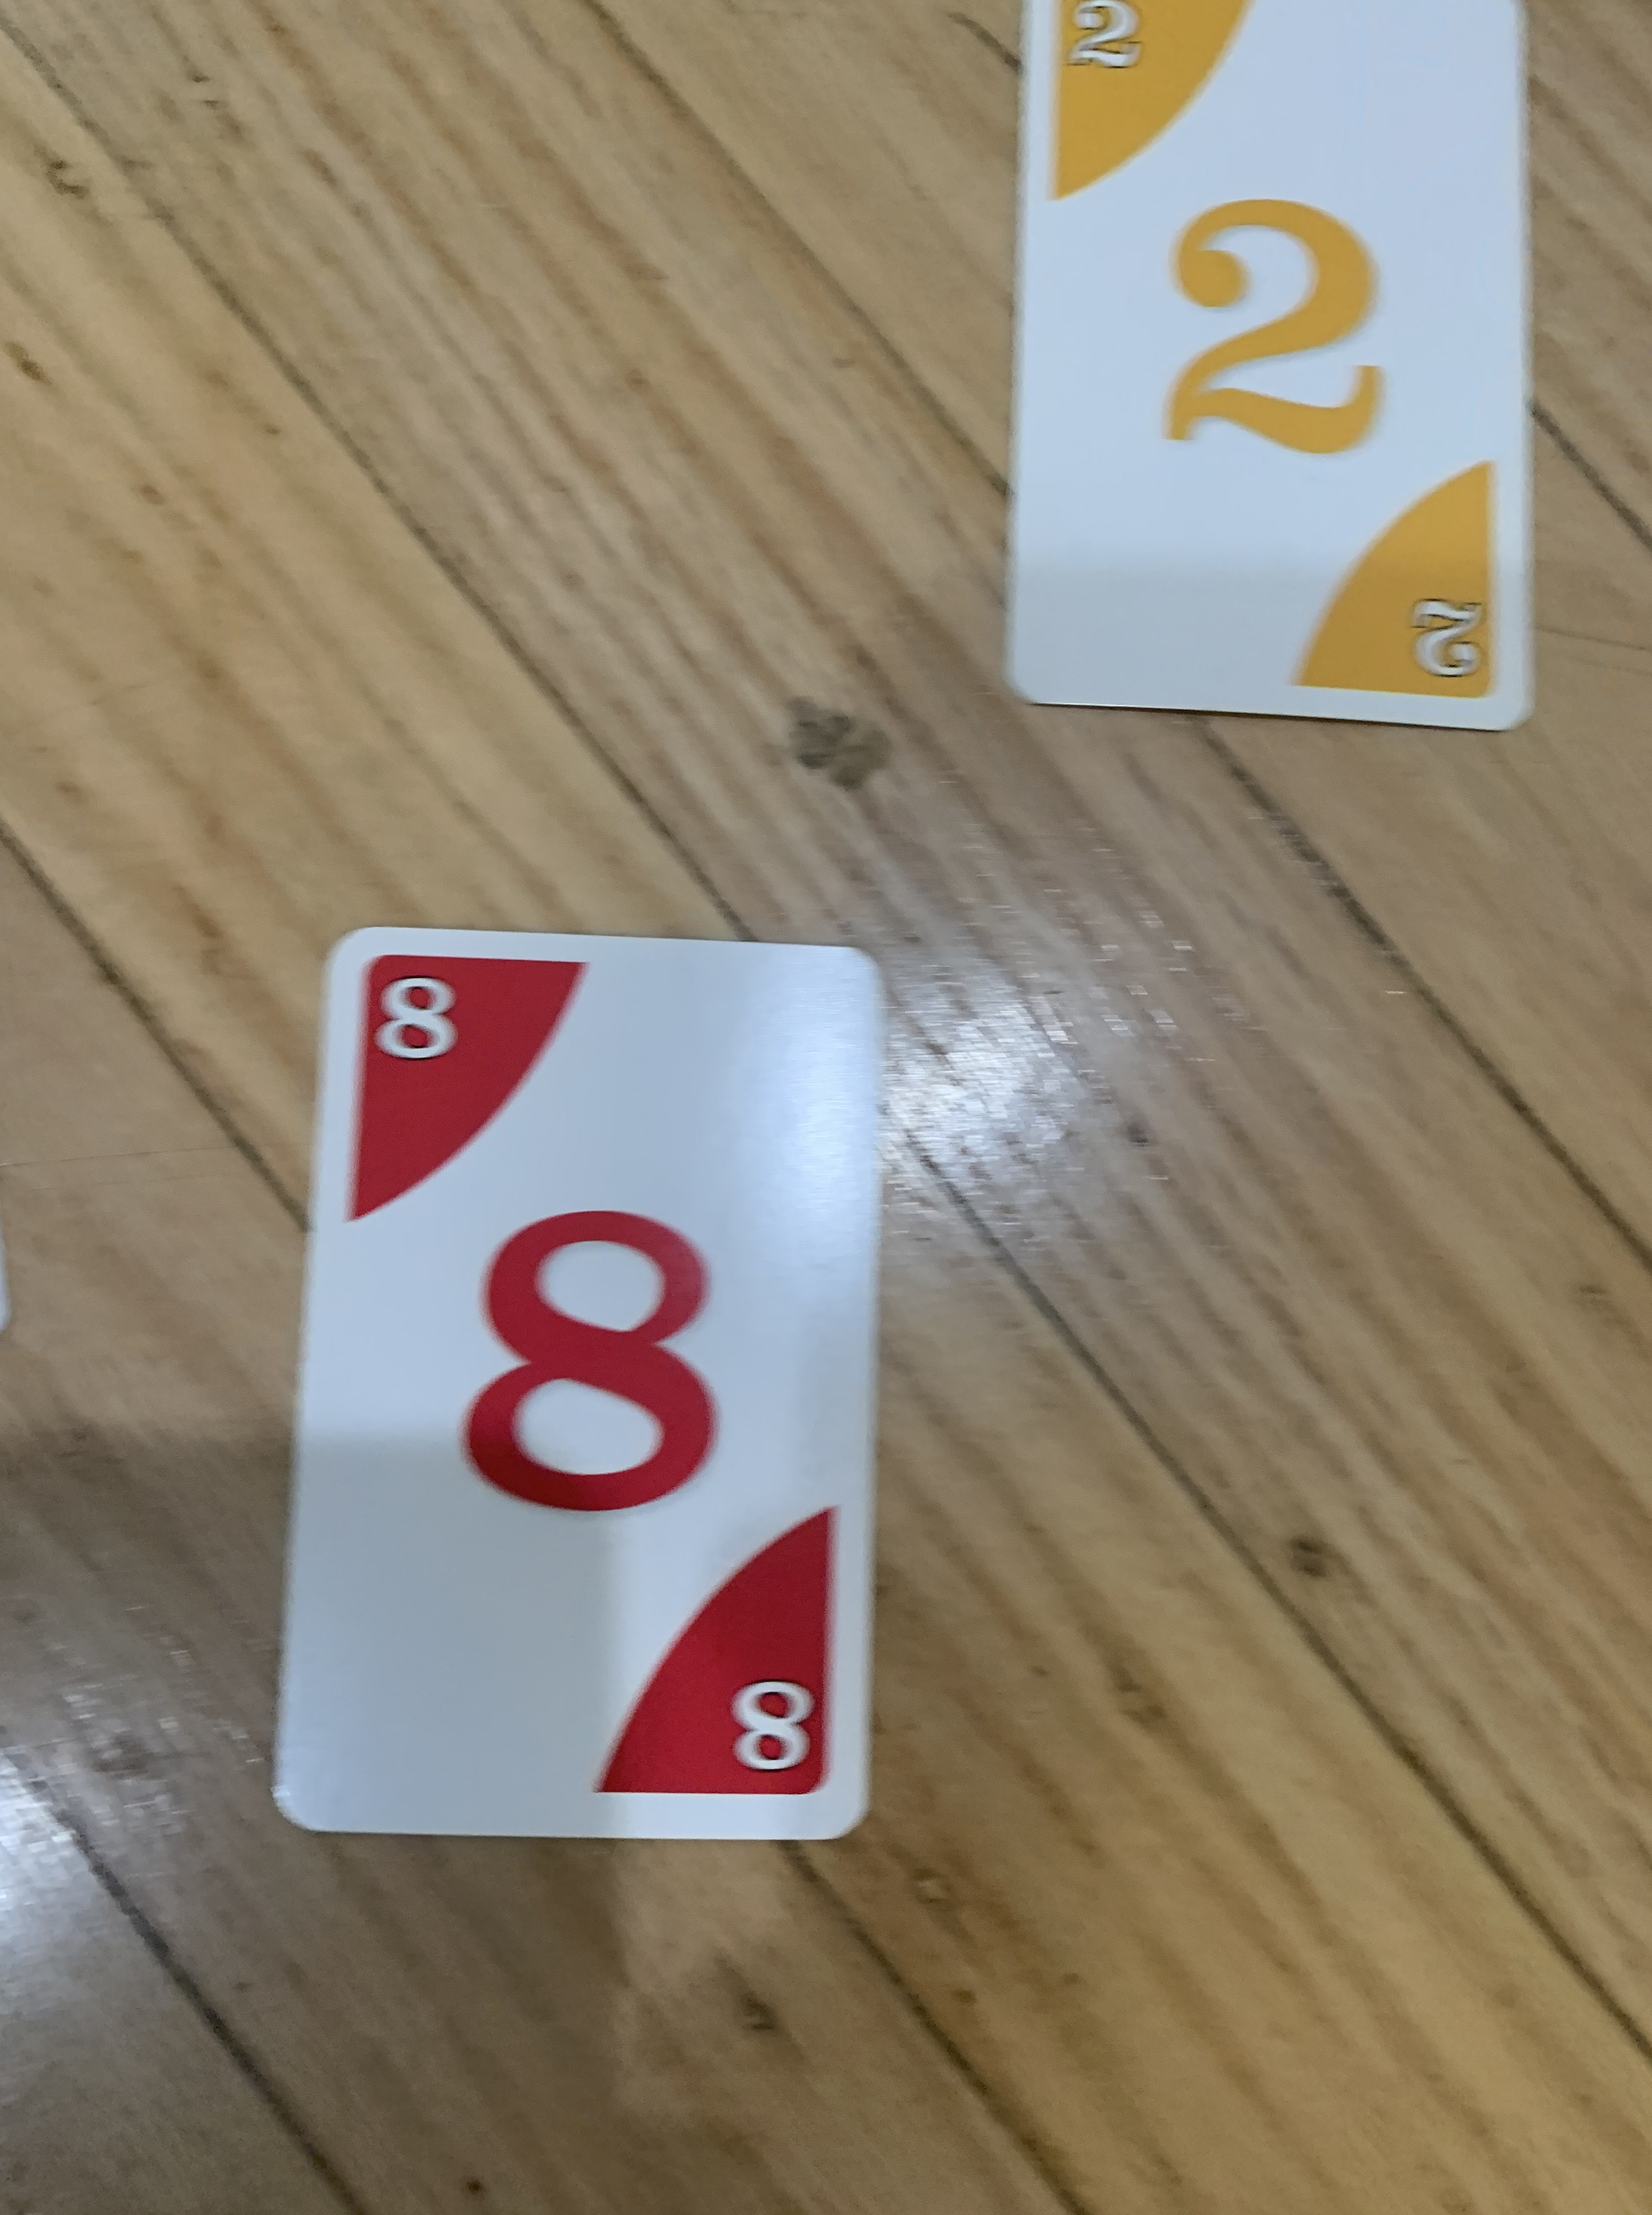eight: (257, 915, 909, 1873)
two: (967, 2, 1567, 759)
